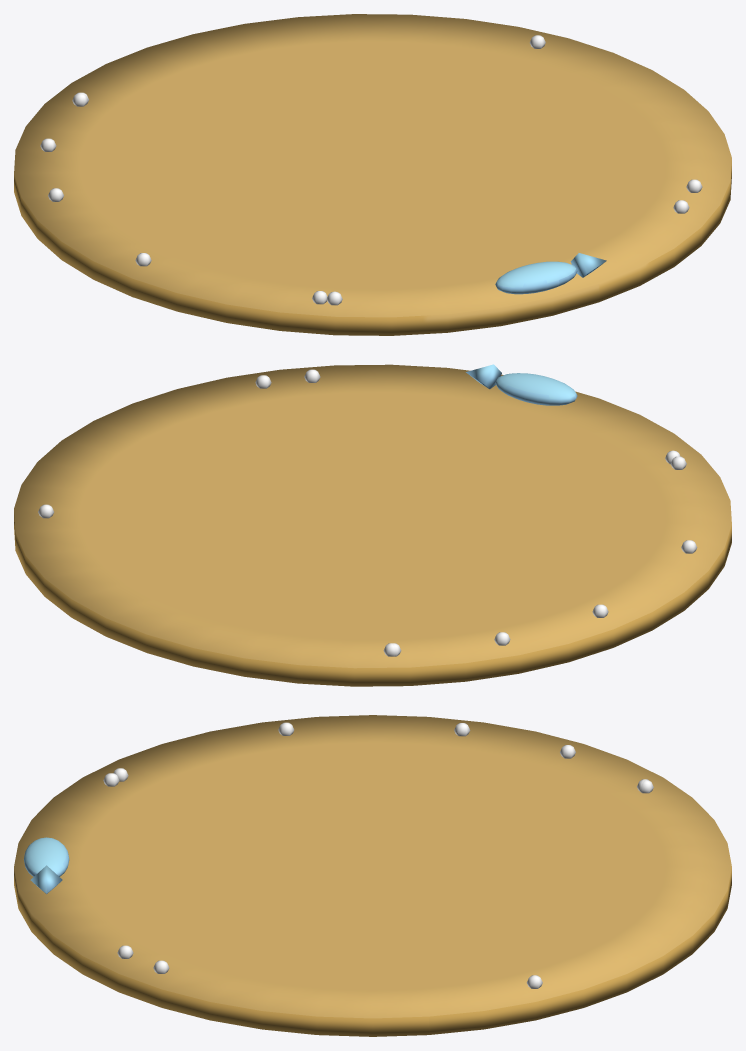
The model's file is star_ring_2.glb.
3 views of the same model, one above another, from view 1: azimuth 30°, elevation 25°; view 2: azimuth 150°, elevation 25°; view 3: azimuth 270°, elevation 25° (orthographic).
Visible parts, largest first — view 1: Ring; view 2: Ring; view 3: Ring.
Part boxes in pixels (<box>): Ring: <box>14,14,731,335</box>; Ring: <box>14,364,731,686</box>; Ring: <box>14,715,731,1036</box>.
Bounding box in the file's own units: 0.88 × 0.055 × 0.88.
1 material, 1 textured.
